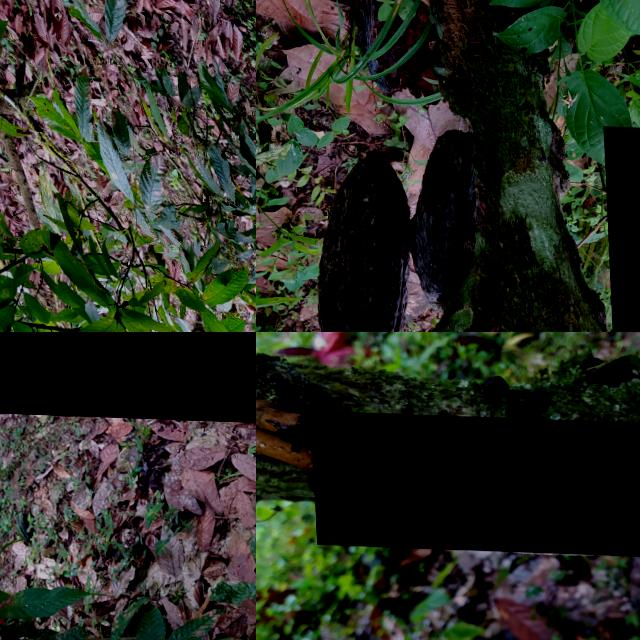Fitoftora: (305, 144, 416, 332), (407, 125, 482, 310), (602, 123, 640, 332)
Monilia: (308, 410, 640, 556)
Sana: (0, 332, 256, 419)
